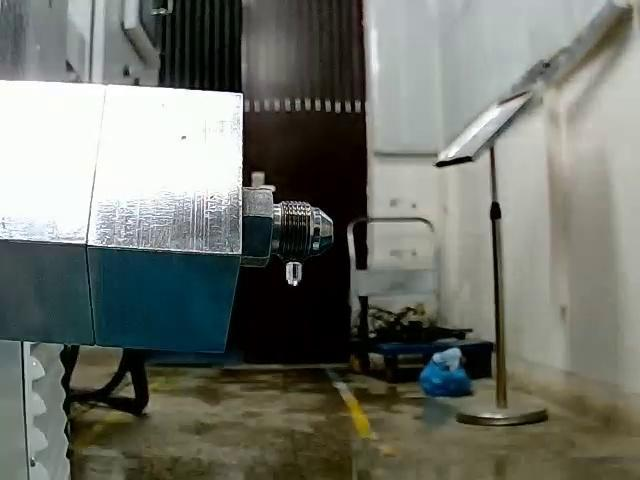water drop: (284, 262, 305, 288)
